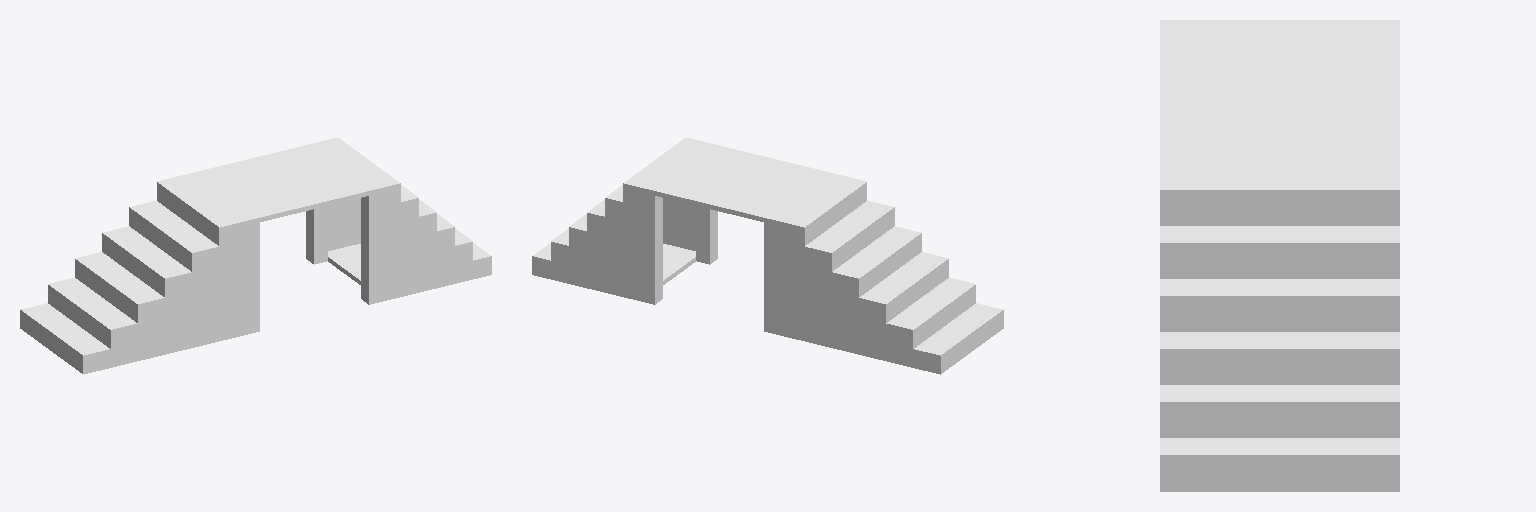
URDF robot description (terrain-stairs_3):
<?xml version="1.0" encoding="utf-8"?>
<!-- This URDF was automatically created by SolidWorks to URDF Exporter! Originally created by [author] ([email redacted]) 
     Commit Version: 1.6.0-4-g7f85cfe  Build Version: 1.6.7995.38578
     For more information, please see http://wiki.ros.org/sw_urdf_exporter -->
<robot
  name="terrain-stairs_3">
  <link
    name="base_link">
    <inertial>
      <origin
        xyz="2.2629 0.6 0.52003"
        rpy="0 0 0" />
      <mass
        value="401.61" />
      <inertia
        ixx="129.02"
        ixy="-1.6771E-14"
        ixz="-8.2107"
        iyy="148.29"
        iyz="2.5122E-15"
        izz="164.47" />
    </inertial>
    <visual>
      <origin
        xyz="0 0 0"
        rpy="0 0 0" />
      <geometry>
        <mesh
          filename="package://terrain-stairs_3/meshes/base_link.STL" />
      </geometry>
      <material
        name="">
        <color
          rgba="1 1 1 1" />
      </material>
    </visual>
    <collision>
      <origin
        xyz="0 0 0"
        rpy="0 0 0" />
      <geometry>
        <mesh
          filename="package://terrain-stairs_3/meshes/base_link.STL" />
      </geometry>
    </collision>
  </link>
</robot>

--- Facts derived from the render (not from the file) ---
The picture shows the robot from 3 angles, left to right: view 1: azimuth 30°, elevation 25°; view 2: azimuth 150°, elevation 25°; view 3: azimuth 270°, elevation 25°; orthographic projection.
Model terrain-stairs_3 with 1 links and 0 joints (none), rooted at base_link, posed all joints at 0.
Links seen in each view (by area): view 1: base_link; view 2: base_link; view 3: base_link.
Link boxes in pixels (<box>): base_link: <box>20,137,491,374</box>; base_link: <box>532,137,1003,374</box>; base_link: <box>1160,20,1399,491</box>.
Size in the robot's own frame: 4.5 by 1.2 by 1.2 metres.
1 mesh visuals loaded from 1 distinct referenced files (1 binary STL).